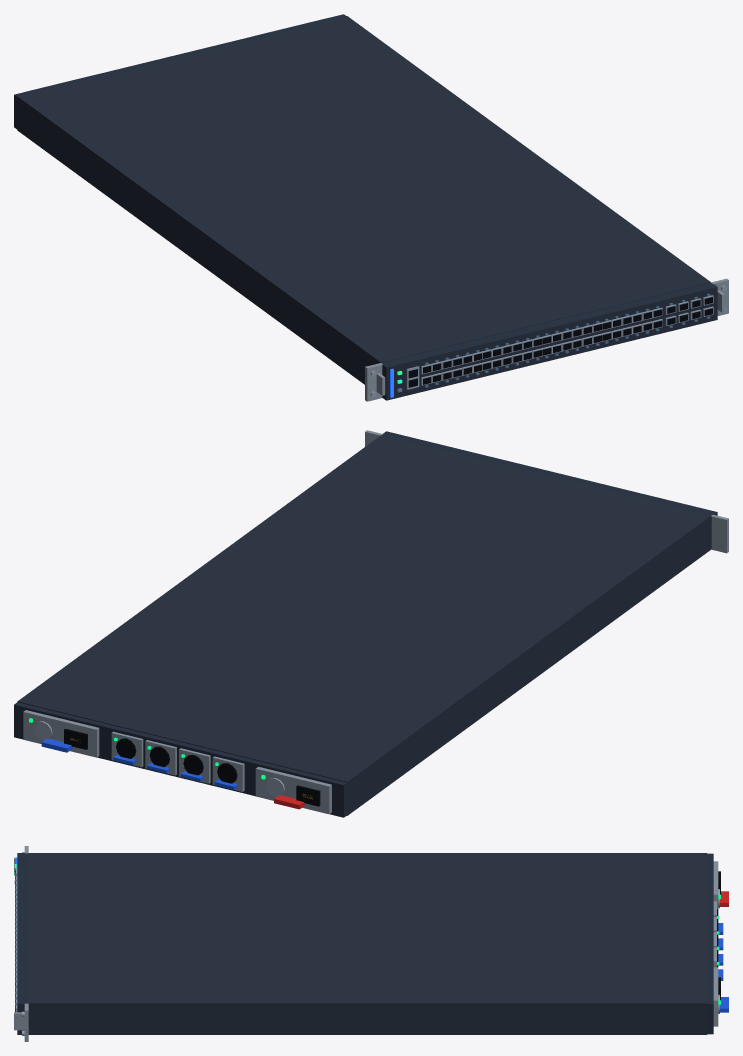
The model's file is ruijie_campus_family.glb.
3 views of the same model, one above another, from view 1: azimuth 30°, elevation 25°; view 2: azimuth 150°, elevation 25°; view 3: azimuth 270°, elevation 25° (orthographic). The views are drawn at different scales.
Parts seen in each view (by area): view 1: BATCH_MAT_CHASSIS_BODY, BATCH_MAT_FACEPLATE, BATCH_MAT_CAVITY_DARK, BATCH_MAT_PORT_SHIELD, BATCH_MAT_RACK_EAR; view 2: BATCH_MAT_CHASSIS_BODY, BATCH_MAT_FACEPLATE, BATCH_MAT_RACK_EAR, BATCH_MAT_CAVITY_DARK; view 3: BATCH_MAT_CHASSIS_BODY, BATCH_MAT_FACEPLATE, BATCH_MAT_RACK_EAR, BATCH_MAT_PORT_SHIELD.
Boxes of the visible parts, x1=… form: BATCH_MAT_CHASSIS_BODY: x1=17, y1=16, x2=710, y2=384; BATCH_MAT_FACEPLATE: x1=14, y1=14, x2=717, y2=400; BATCH_MAT_CAVITY_DARK: x1=408, y1=297, x2=712, y2=387; BATCH_MAT_PORT_SHIELD: x1=370, y1=285, x2=726, y2=397; BATCH_MAT_RACK_EAR: x1=25, y1=17, x2=728, y2=401; BATCH_MAT_CHASSIS_BODY: x1=17, y1=435, x2=710, y2=815; BATCH_MAT_FACEPLATE: x1=14, y1=431, x2=717, y2=817; BATCH_MAT_RACK_EAR: x1=23, y1=430, x2=728, y2=814; BATCH_MAT_CAVITY_DARK: x1=64, y1=728, x2=320, y2=806; BATCH_MAT_CHASSIS_BODY: x1=28, y1=853, x2=707, y2=1034; BATCH_MAT_FACEPLATE: x1=17, y1=853, x2=713, y2=1034; BATCH_MAT_RACK_EAR: x1=14, y1=846, x2=718, y2=1041; BATCH_MAT_PORT_SHIELD: x1=15, y1=852, x2=719, y2=1035.
Size of the model in its own units: 0.4826 by 0.0435 by 0.885.
